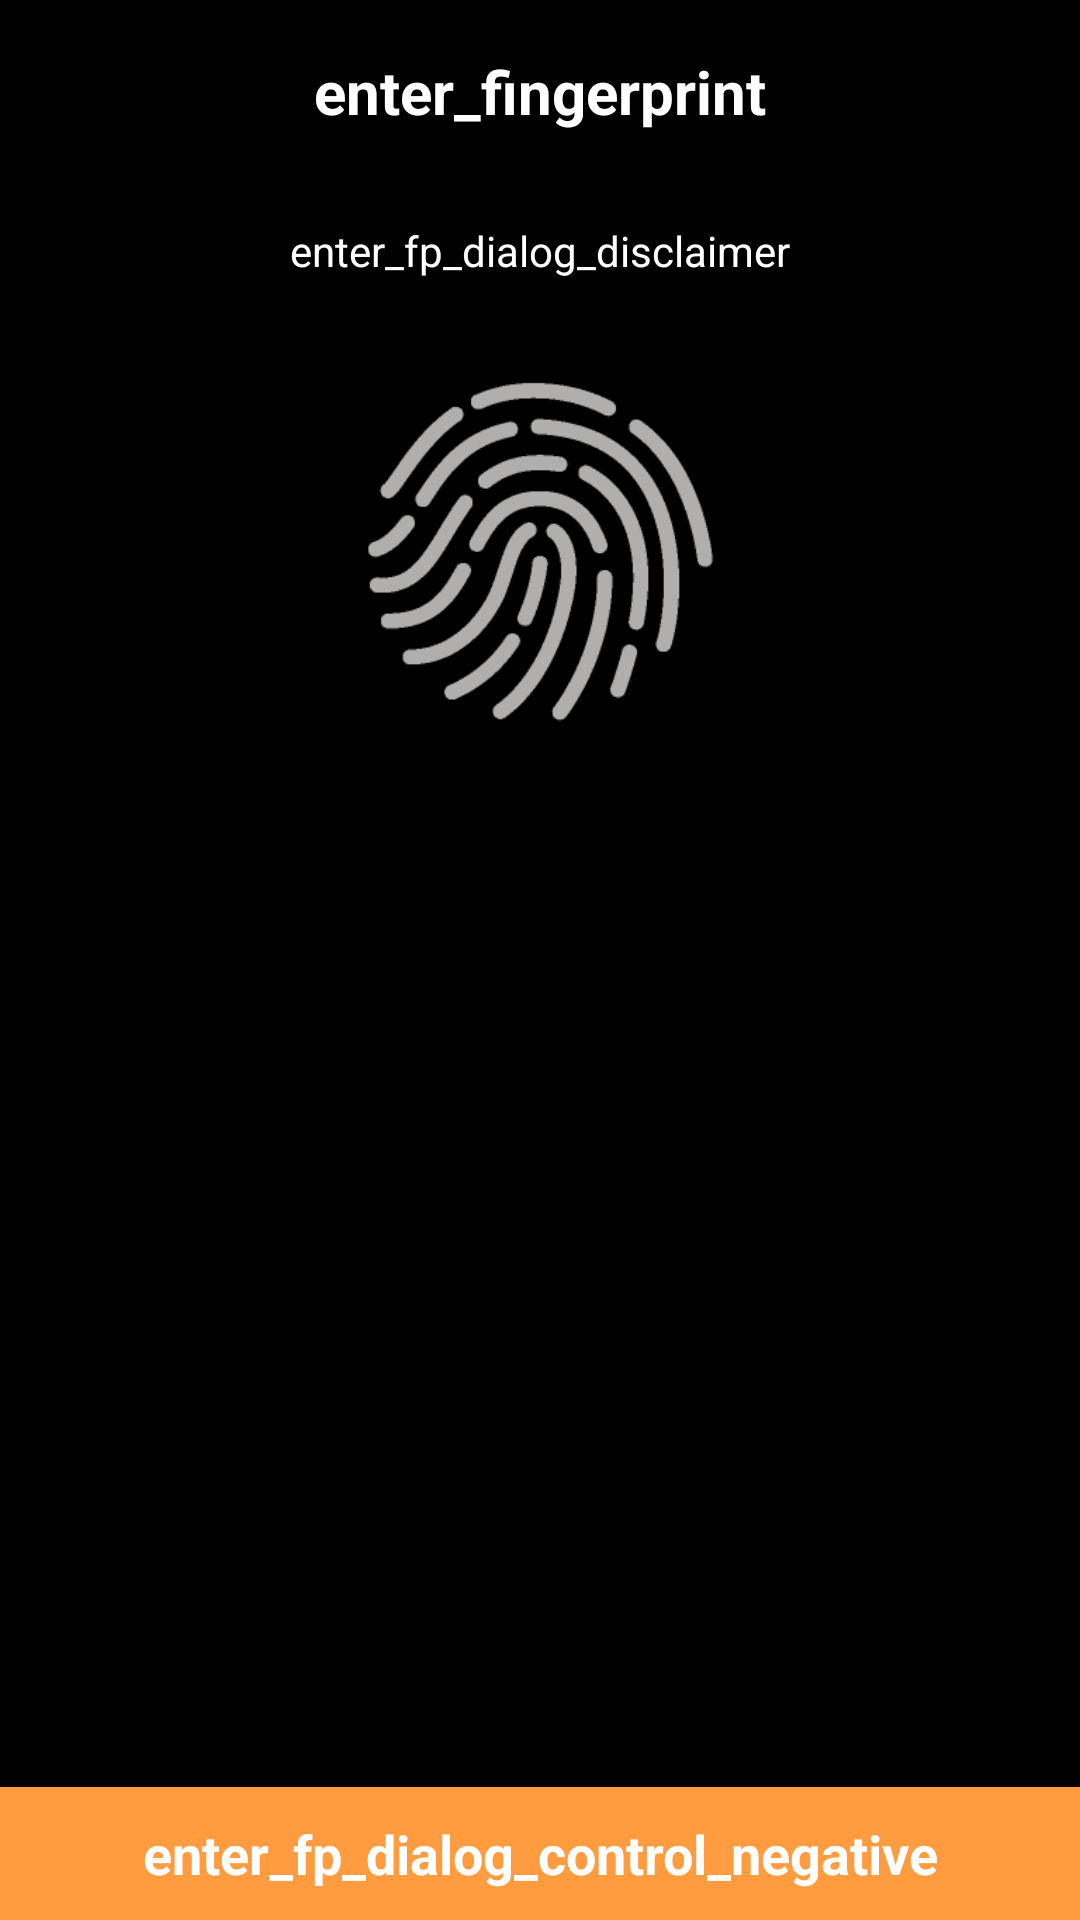

Screen size 1080*1920. Icon name, then its box in pixels as region(x1, y1, x2, y2):
activity fingerprint: region(368, 383, 713, 721)
